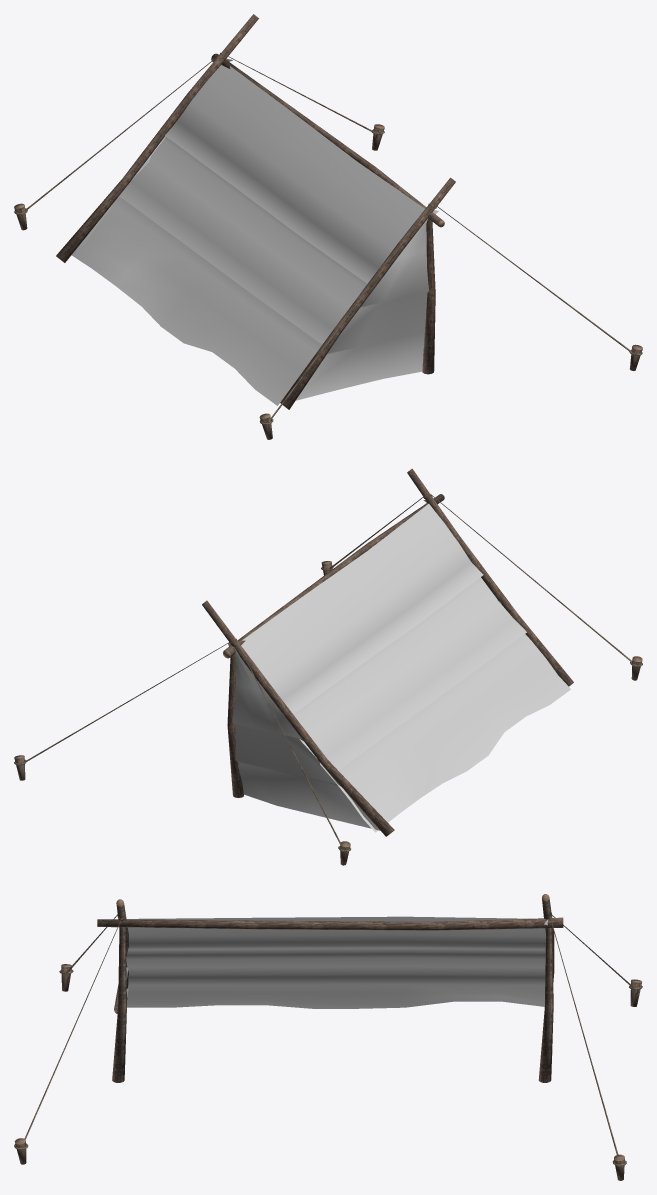
The model's file is hut2.fbx.
The picture shows the model from 3 angles, top to bottom: view 1: azimuth 30°, elevation 25°; view 2: azimuth 150°, elevation 25°; view 3: azimuth 270°, elevation 25°; orthographic projection. The views are drawn at different scales.
Visible parts, largest first — view 1: Cube_002, Cube_001, wood1, Cube; view 2: Cube_002, Cube_001, wood1, Cube; view 3: Cube_002, wood1.
Boxes of the visible parts, box(x1,y1,x2,y2) form: Cube_002: box(72, 65, 424, 405); Cube_001: box(72, 58, 438, 400); wood1: box(14, 14, 642, 439); Cube: box(72, 59, 437, 398); Cube_002: box(241, 504, 570, 832); Cube_001: box(228, 500, 501, 830); wood1: box(14, 468, 642, 865); Cube: box(233, 649, 374, 826); Cube_002: box(126, 916, 545, 1008); wood1: box(14, 894, 642, 1180).
Bounding box in the file's own units: 150 × 73.79 × 203.
